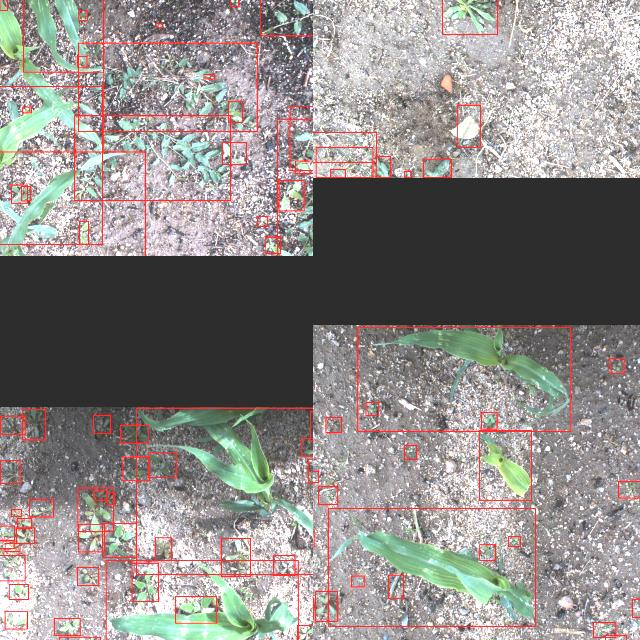crop: (135, 407, 313, 574), (327, 508, 535, 626), (358, 327, 570, 431), (0, 86, 102, 244), (0, 0, 103, 152), (105, 560, 297, 640), (0, 151, 144, 256), (23, 0, 103, 72), (479, 430, 531, 500), (0, 0, 7, 10)
weed: (78, 42, 256, 132), (74, 116, 230, 200), (277, 119, 313, 256), (259, 0, 313, 36), (313, 133, 376, 163), (441, 0, 496, 34), (316, 147, 372, 177), (77, 487, 113, 531), (289, 106, 313, 170), (174, 596, 216, 624), (101, 523, 135, 557), (220, 538, 250, 576), (131, 562, 157, 602), (456, 105, 479, 147), (278, 181, 304, 211), (147, 452, 175, 478), (78, 524, 104, 552), (22, 409, 44, 439), (315, 591, 337, 621), (122, 456, 148, 480), (0, 555, 24, 580), (423, 158, 451, 178), (222, 142, 246, 164), (120, 425, 148, 443), (53, 618, 79, 636), (272, 555, 294, 575), (0, 460, 19, 483), (0, 416, 24, 434), (29, 499, 53, 516), (154, 538, 172, 560), (76, 567, 98, 585), (617, 480, 640, 497), (4, 612, 26, 628), (593, 622, 615, 638), (318, 486, 337, 504), (92, 415, 110, 433), (8, 584, 28, 600), (228, 100, 242, 122), (376, 156, 390, 178), (388, 576, 402, 598), (264, 236, 280, 254), (11, 185, 27, 203), (16, 527, 34, 543), (480, 412, 496, 428), (479, 545, 495, 561), (294, 160, 313, 173), (296, 625, 312, 640), (325, 418, 341, 432), (78, 222, 88, 244), (301, 438, 313, 456), (0, 525, 14, 540), (609, 358, 623, 372), (631, 598, 640, 617), (404, 445, 416, 459), (20, 186, 30, 202), (16, 518, 32, 528), (366, 402, 378, 414), (92, 490, 106, 500), (351, 576, 364, 586), (4, 543, 20, 551), (0, 539, 14, 548), (507, 536, 519, 546), (330, 170, 344, 178), (257, 216, 267, 226), (76, 56, 86, 66), (106, 492, 114, 504), (77, 10, 86, 20), (11, 509, 21, 516), (313, 471, 318, 482), (22, 107, 31, 113), (230, 0, 238, 6), (202, 74, 214, 78), (403, 172, 411, 178), (155, 22, 161, 28)
